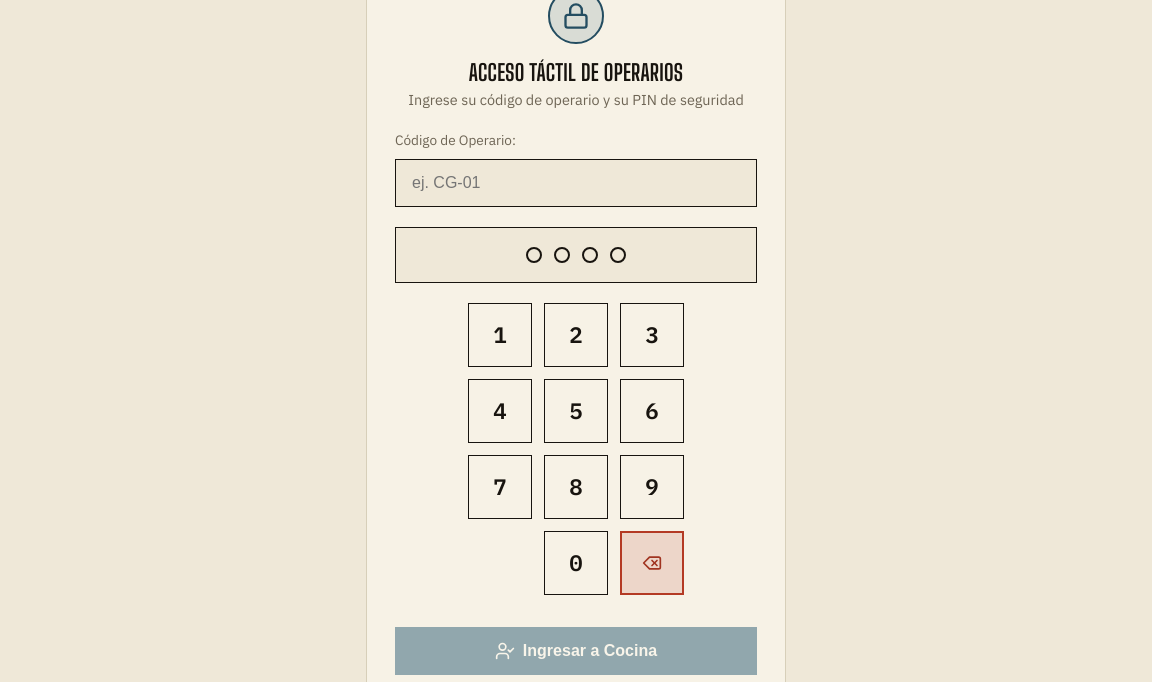
Test case: TK-073-FE (US-015 Escenario 2): pantalla de aterrizaje tras el login según permisos › con kitchen:recipe_prepare aterriza en el Tablero FEFO de Cocina, aunque el login se abriera en otra ruta
This screenshot has width=1152, height=682.
Type "OP-01" into the field labelled "Código de Operario:". click: (576, 183)
box: [395,159,757,207]
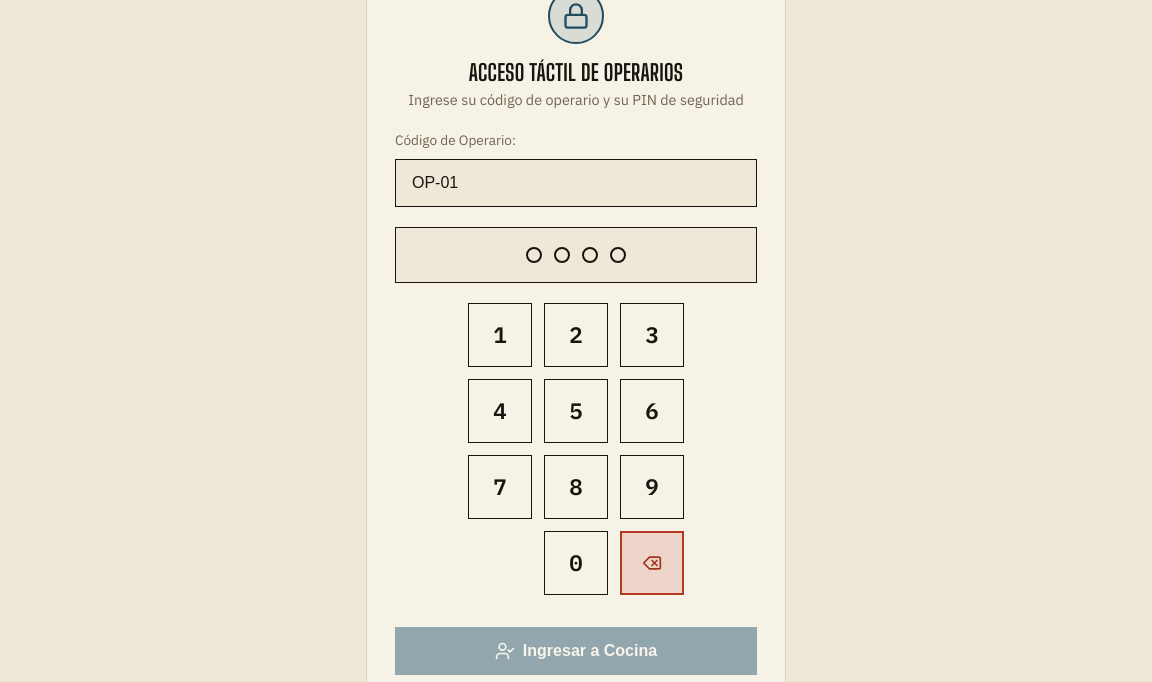
Click the button "1". click: (500, 335)
box: [468,303,532,367]
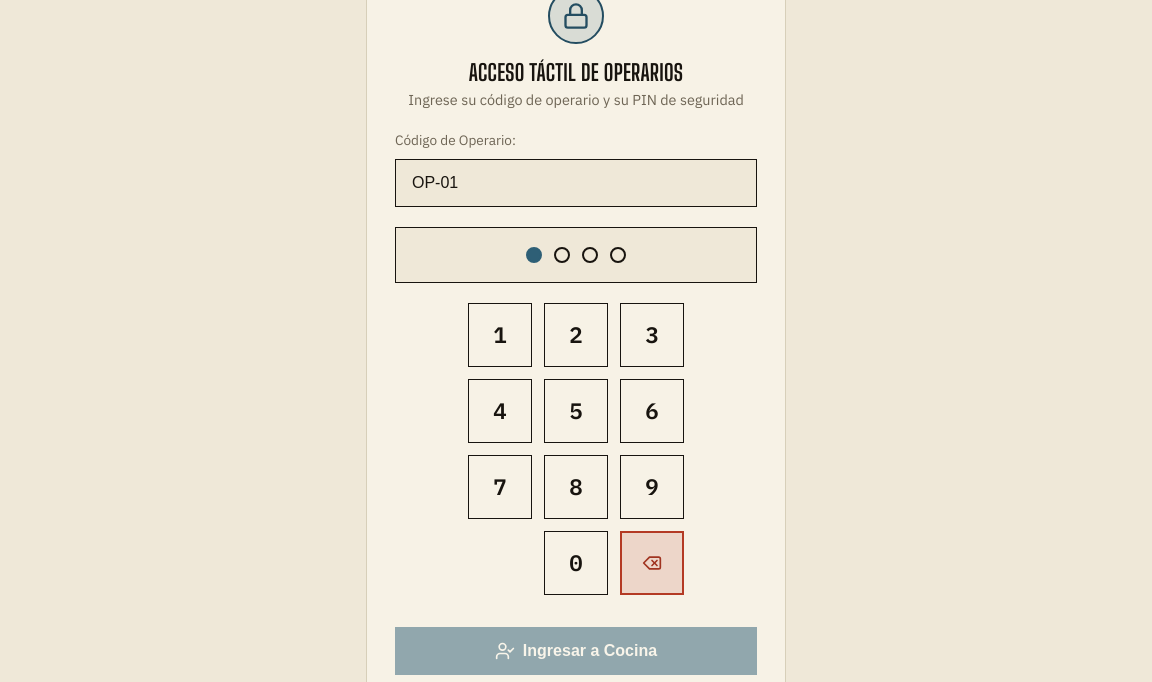
Click the button "2". click: (576, 335)
box: [544,303,608,367]
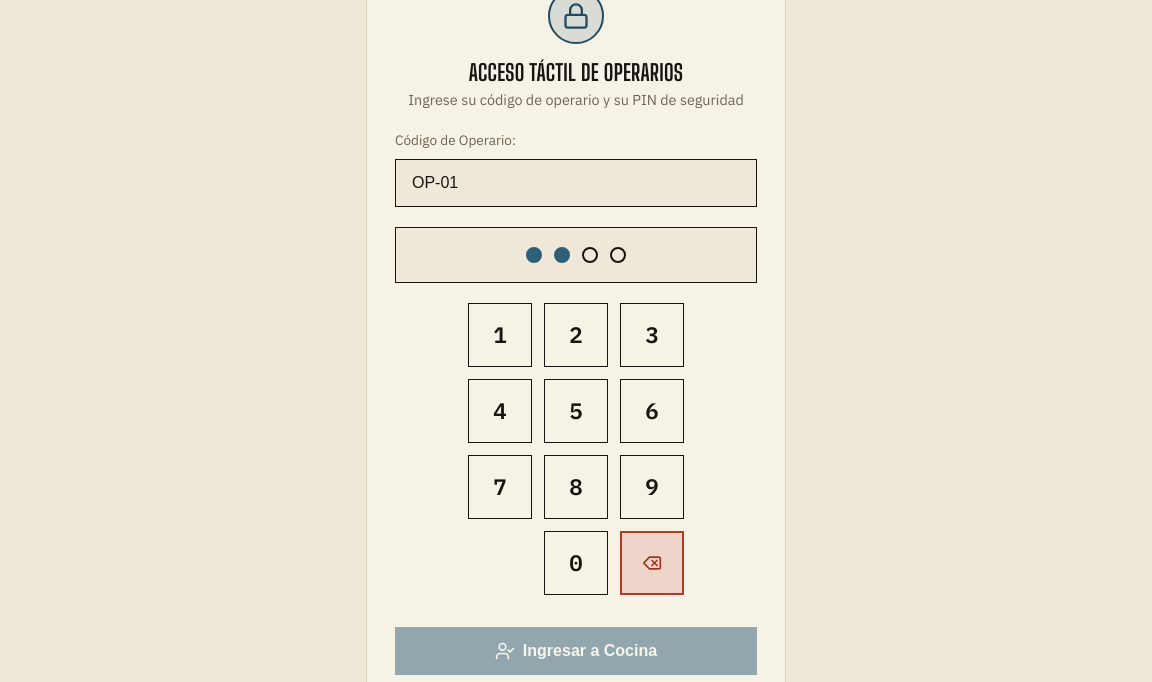
Click the button "3". click: (652, 335)
box: [620,303,684,367]
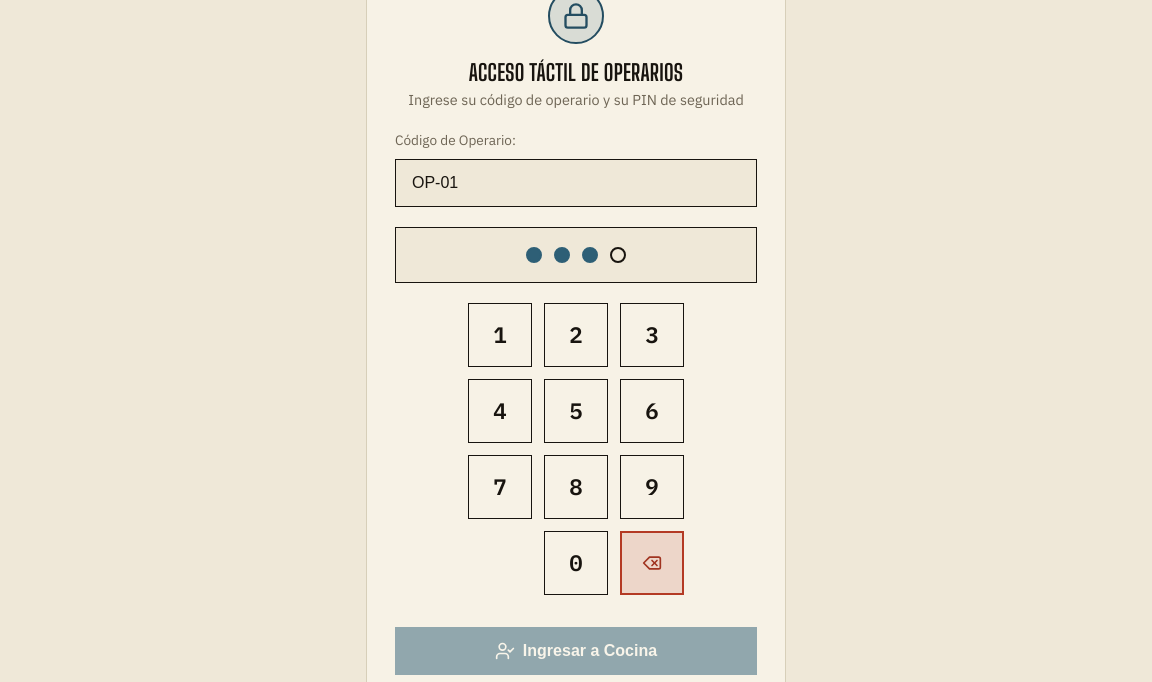
Click the button "4". click: (500, 411)
box: [468,379,532,443]
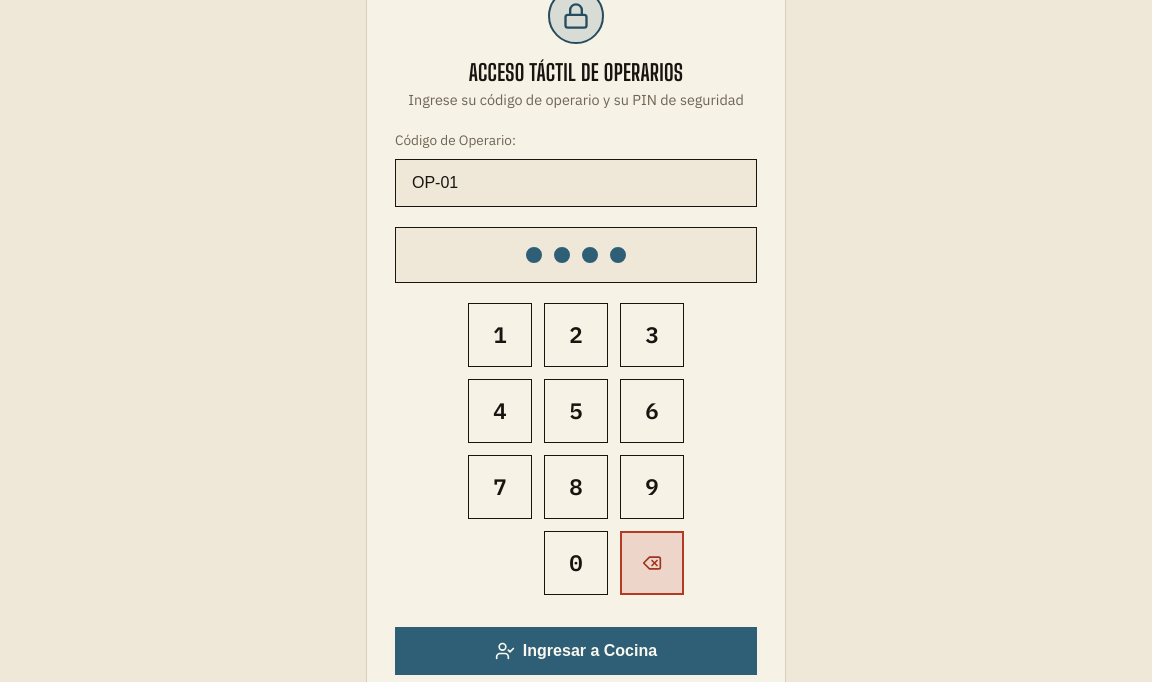
Click the button "Ingresar a Cocina". click: (576, 651)
box: [395,627,757,675]
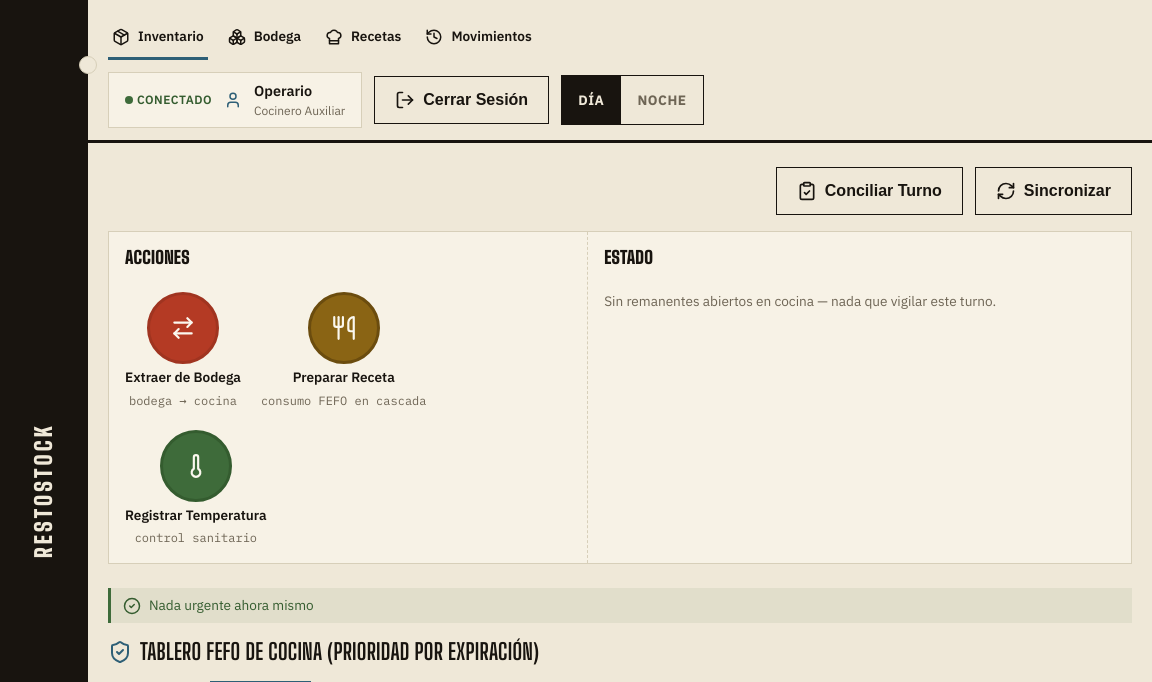
Result: the heading "Tablero FEFO de Cocina (Prioridad por Expiración)" is shown at [108,638,539,665]
